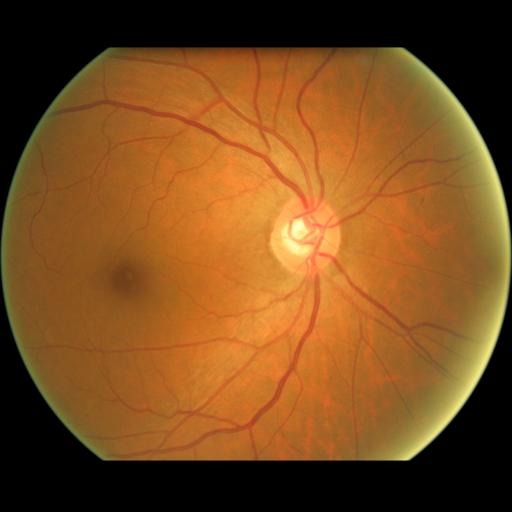Optic Cup: (282, 217, 321, 255)
Optic Disc: (270, 199, 340, 277)
